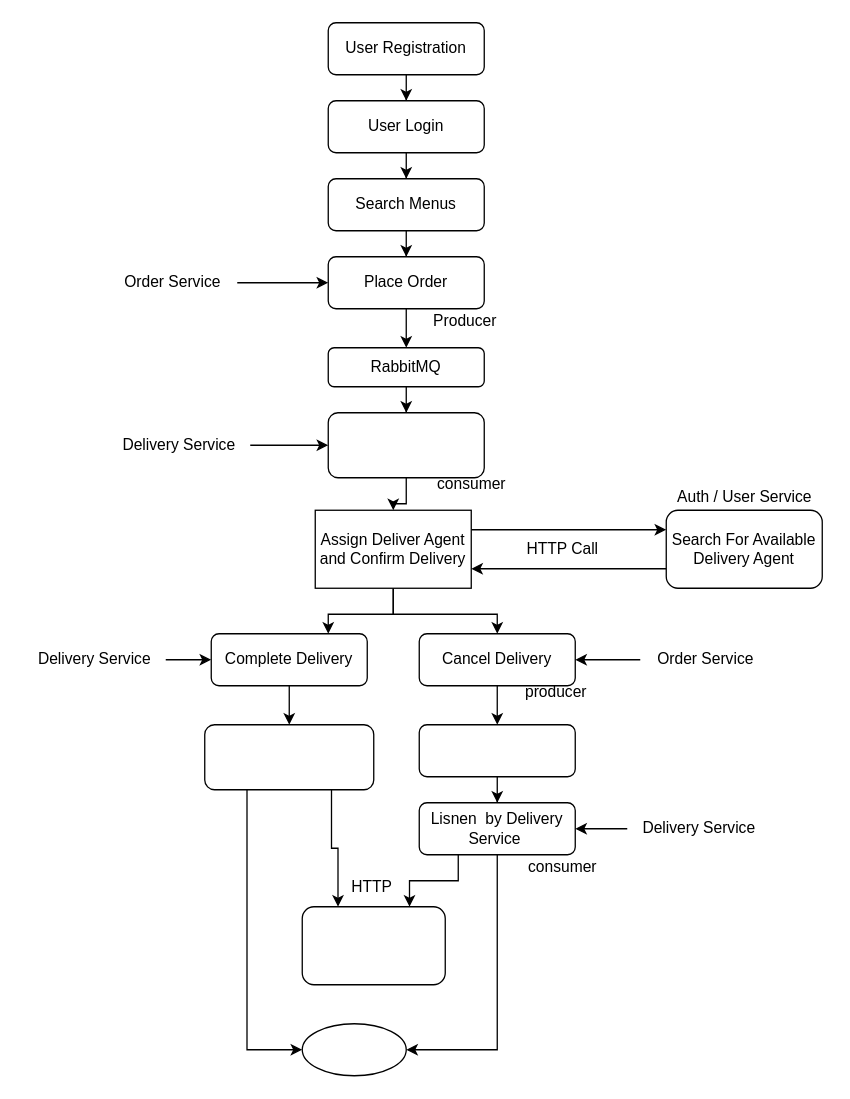
This 850x1099 diagram has some shape labels left out. The shapes that lost their labels are listed below. From the top down, each one's box as (x1, y1, x2, y2) in pixels, then its label:
(327, 411, 484, 478): Lisnen Order from RabbitMQ
(203, 723, 374, 790): Update Status of Order as Completed
(418, 723, 575, 777): Rabbit MQ
(301, 905, 445, 985): Mark the Delivery Partner as Available
(301, 1022, 406, 1076): Exit
